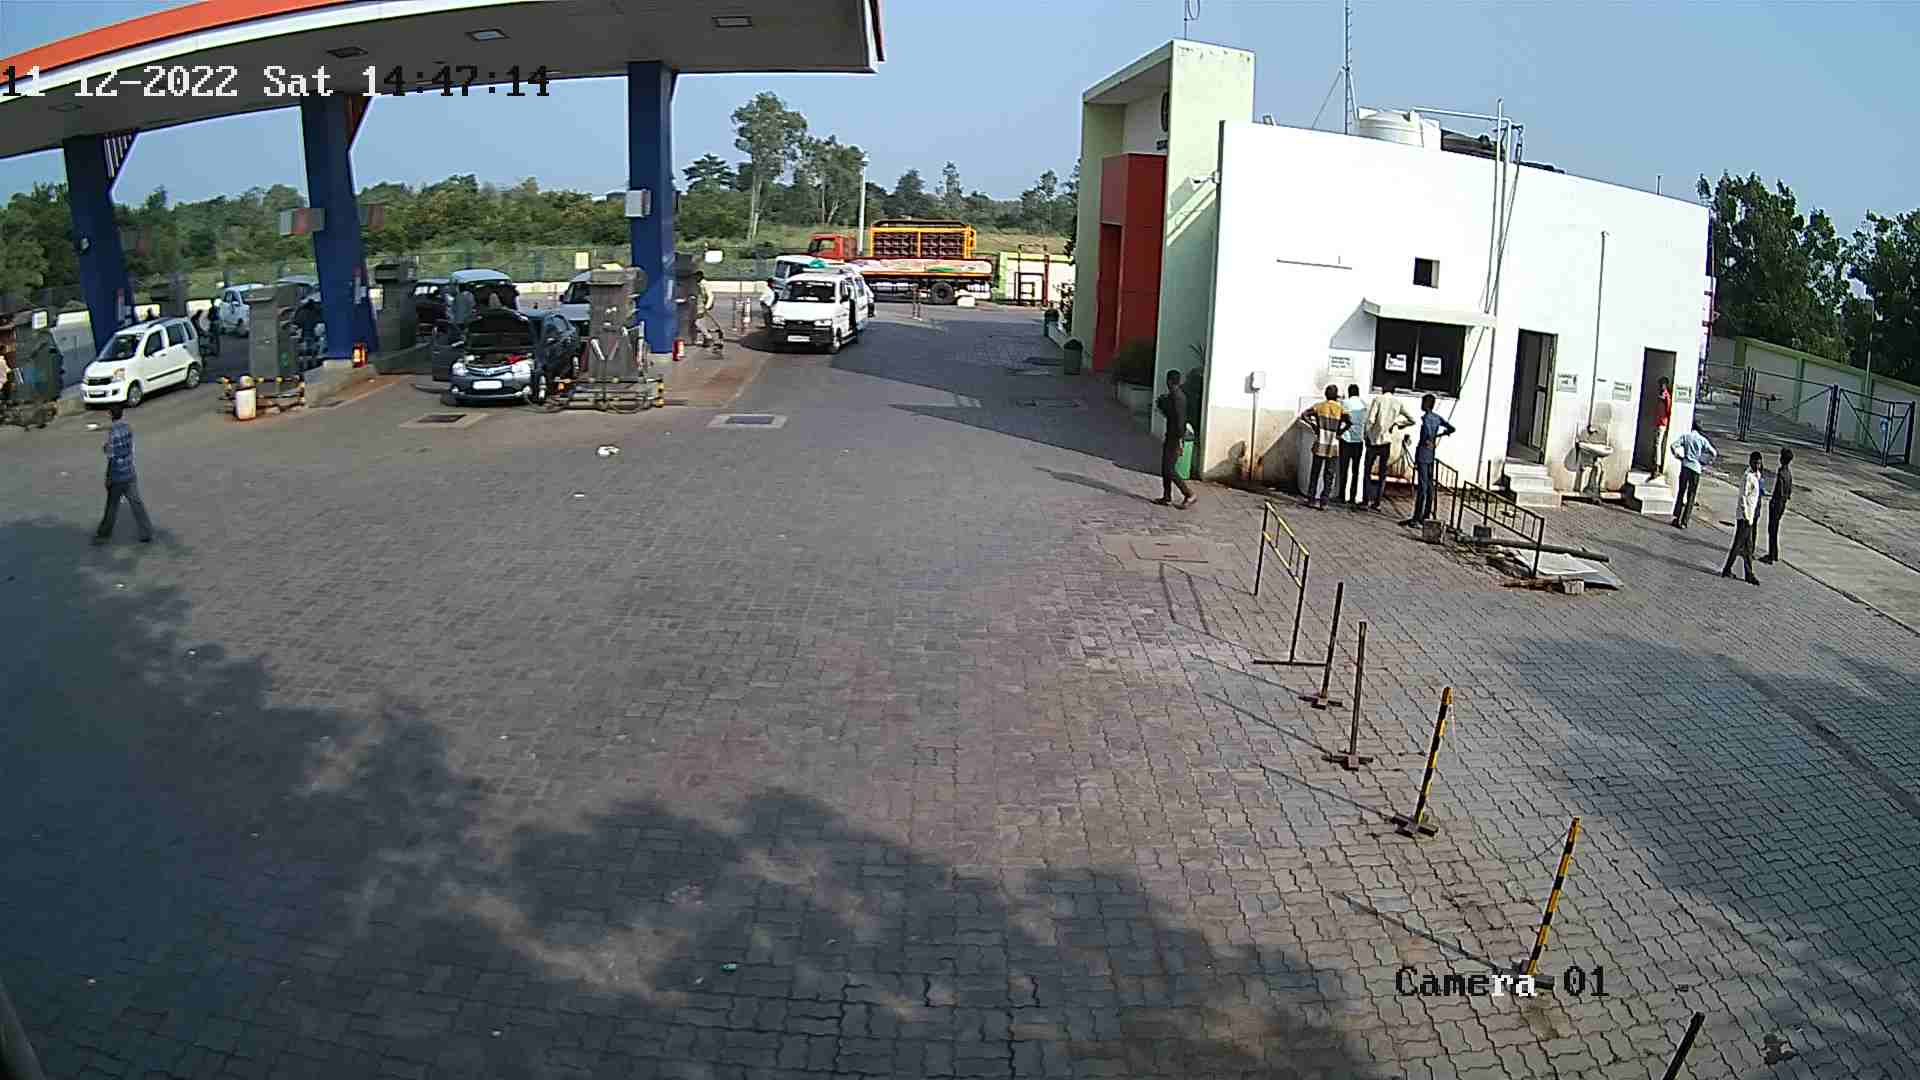Car: (423, 299, 584, 406), (76, 309, 208, 413), (758, 255, 876, 356), (757, 248, 878, 324), (270, 266, 330, 375), (553, 264, 609, 353), (211, 276, 273, 345), (440, 260, 525, 309), (402, 266, 458, 340)
HMV: (793, 215, 1000, 307)
